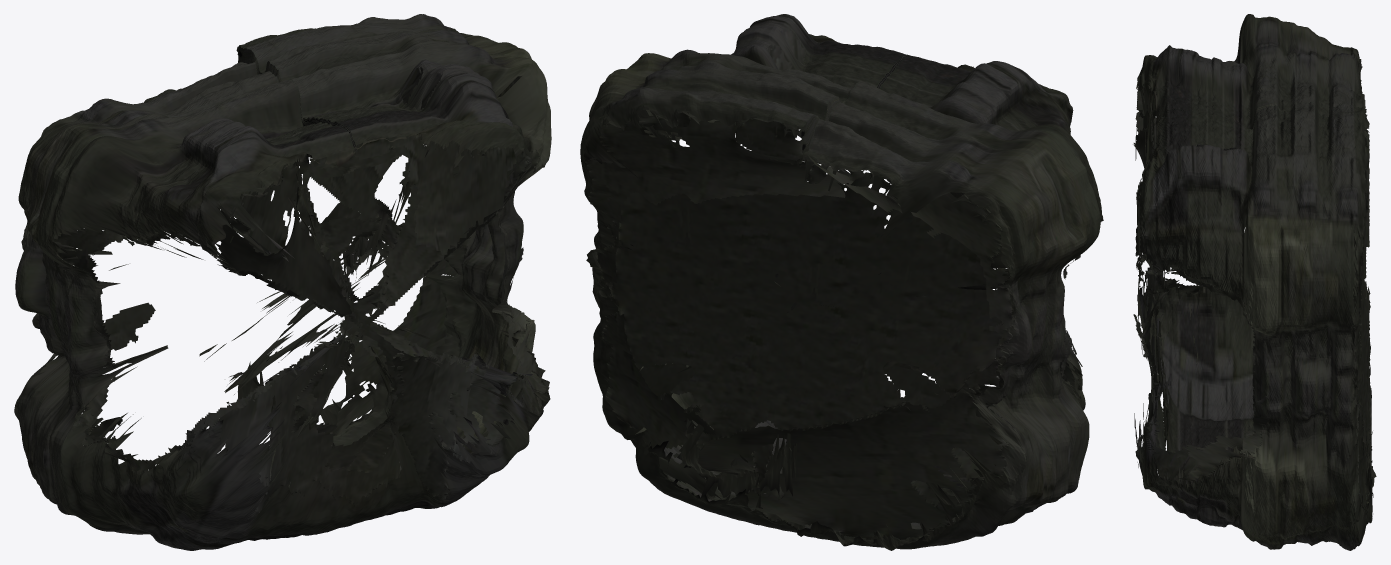
Rendered from mesh_inpaint.glb.
3 views of the same model, side by side, from view 1: azimuth 30°, elevation 25°; view 2: azimuth 150°, elevation 25°; view 3: azimuth 270°, elevation 25° (orthographic). The views are drawn at different scales.
Parts seen in each view (by area): view 1: ipn, fill; view 2: fill, ipn; view 3: ipn, fill.
Part boxes in pixels (bbox=[...]): ipn: bbox=[14, 14, 551, 550]; fill: bbox=[33, 46, 549, 512]; fill: bbox=[585, 27, 1082, 539]; ipn: bbox=[580, 14, 1103, 550]; ipn: bbox=[1134, 14, 1373, 550]; fill: bbox=[1133, 59, 1376, 517].
Bounding box in the file's own units: 1.76 × 1.5 × 0.8228.
2 materials, 1 textured.
